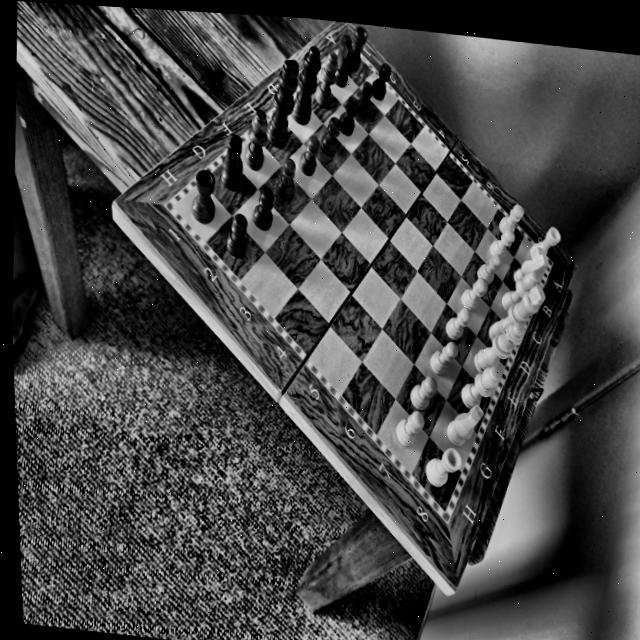black-bishop: (312, 44, 342, 115), (241, 108, 271, 176)
black-king: (263, 54, 304, 150)
black-knight: (218, 130, 246, 192), (331, 34, 356, 88)
black-pawn: (248, 186, 278, 230), (225, 212, 250, 258), (297, 134, 320, 179), (370, 58, 392, 105), (276, 156, 300, 198), (337, 93, 358, 141), (319, 114, 338, 157), (357, 76, 375, 120)
black-queen: (289, 41, 320, 126)
black-rook: (187, 166, 220, 229), (347, 25, 369, 69)
white-bishop: (458, 360, 506, 412), (499, 266, 545, 316)
white-king: (486, 276, 547, 348)
white-knight: (444, 398, 486, 450), (512, 249, 553, 289)
white-pawn: (391, 408, 426, 447), (427, 339, 460, 378), (443, 301, 472, 344), (458, 272, 488, 313), (408, 373, 438, 413), (495, 199, 526, 236), (476, 251, 505, 286), (488, 226, 515, 261)
white-queen: (472, 312, 525, 377)
white-rook: (424, 441, 463, 493), (528, 219, 562, 263)
